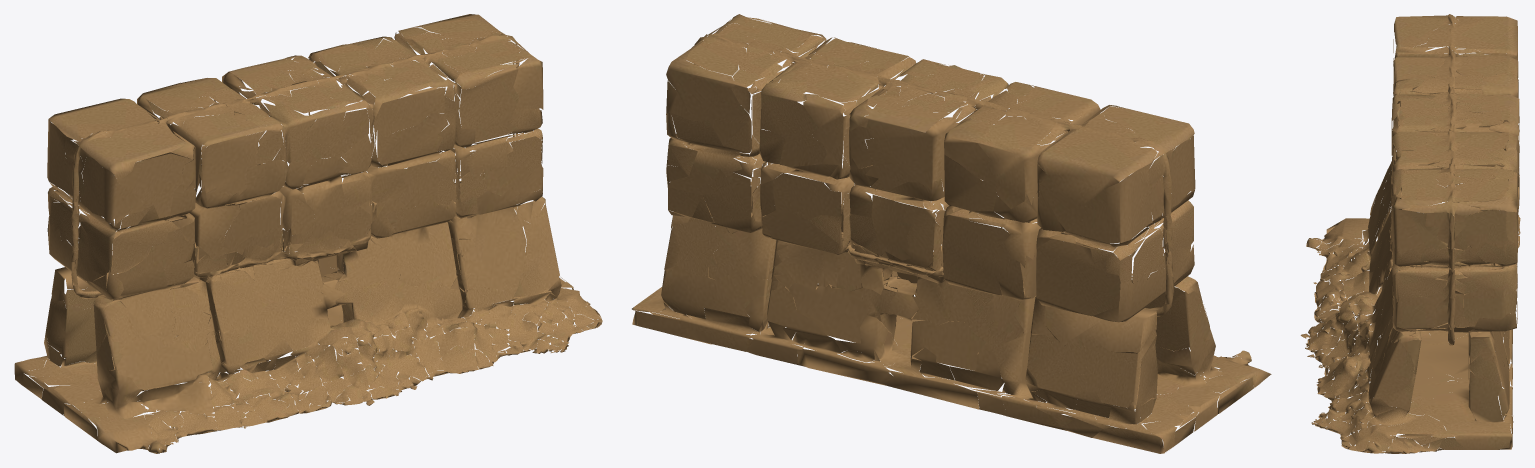
File: barrier-web.glb
The picture shows the model from 3 angles, left to right: view 1: azimuth 30°, elevation 25°; view 2: azimuth 150°, elevation 25°; view 3: azimuth 270°, elevation 25°; orthographic projection. The views are drawn at different scales.
Size of the model in its own units: 2.57 by 1.25 by 1.06.
Materials: 1 (1 with a texture image).
